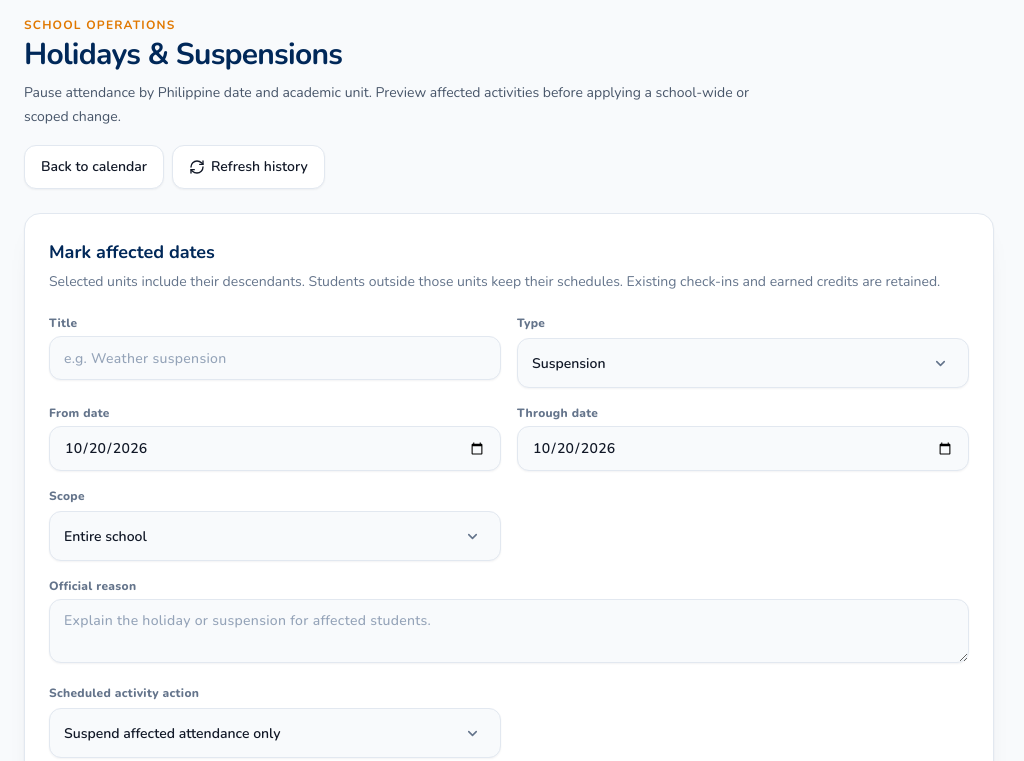
Scenario: Calendar screens › requires a scoped unit selection and valid reason before applying
The width and height of the screenshot is (1024, 761).
Click the button named "Scope": [105, 536] box [49, 511, 501, 561]
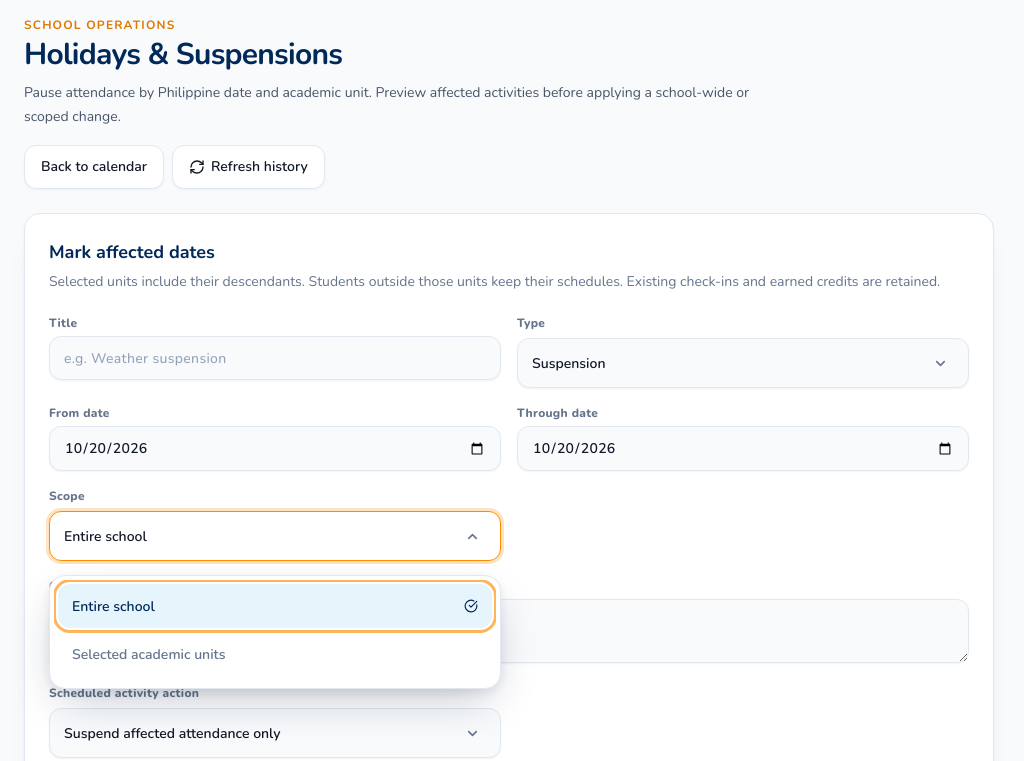
Click the option "Selected academic units": [149, 654] box [58, 632, 492, 676]
(page scrolled)
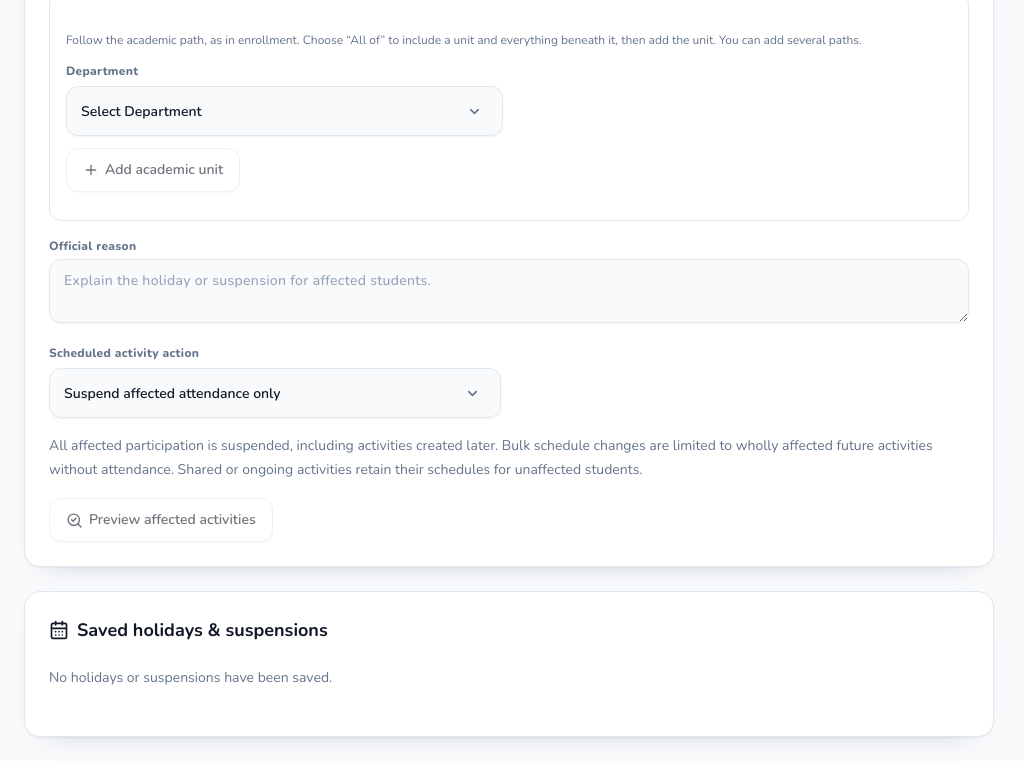
Expected: the button "Preview affected activities" is disabled, [49, 498, 273, 542]
